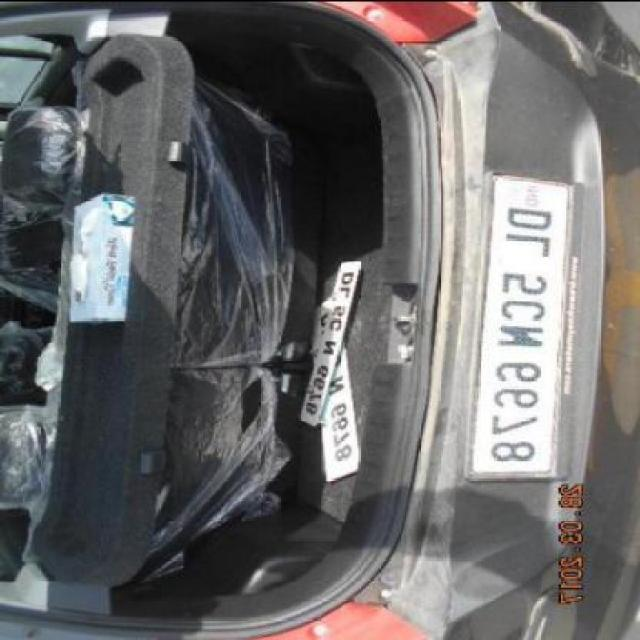damage: (510, 0, 640, 80)
